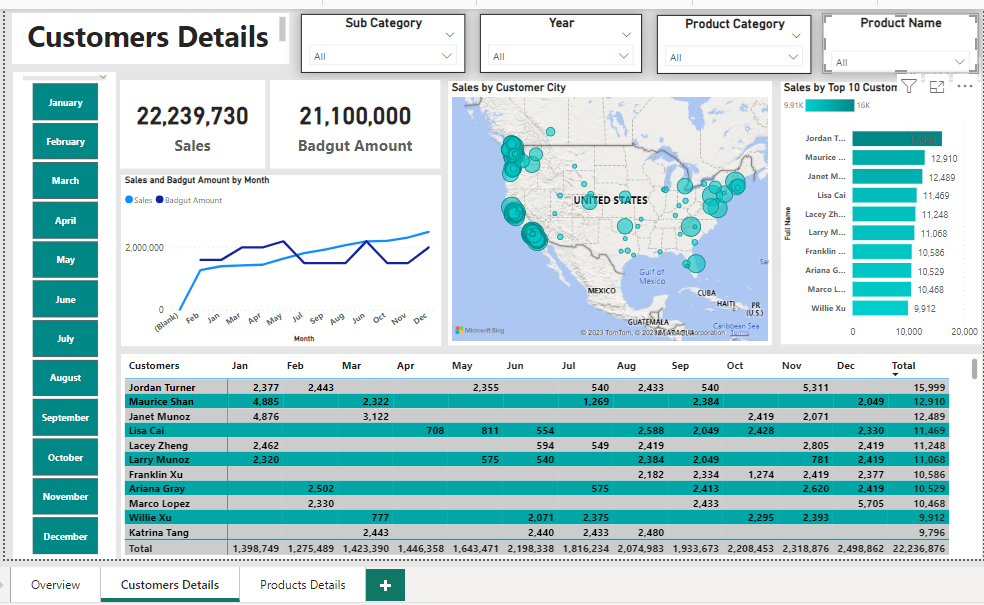

The page's visual inventory and layout, read from the dashboard file:
{"tool":"powerbi","page":{"name":"Customers Details","canvas":[1280,720],"ordinal":1},"visuals":[{"type":"textbox","box":[9.6,5.5,363.4,67.4],"z":0},{"type":"slicer","title":"Product Name","fields":{"Values":["DIM_Products.Product Name"]},"box":[1073.5,8.3,202.3,77.1],"z":1000},{"type":"slicer","title":"Year","fields":{"Values":["DIM_Calendar.Date.Variation.Date Hierarchy.Year"]},"box":[622.1,6.9,212,77.1],"z":2000},{"type":"slicer","title":"Product Category","fields":{"Values":["DIM_Products.Product Category"]},"box":[853.3,8.3,202.3,77.1],"z":3000},{"type":"slicer","title":"Sub Category","fields":{"Values":["DIM_Products.Sub Category"]},"box":[388.1,6.9,214.7,77.1],"z":4000},{"type":"slicer","fields":{"Values":["DIM_Calendar.Date.Variation.Date Hierarchy.Month"]},"box":[10.1,82.1,135.4,637.9],"z":5000},{"type":"barChart","title":"Sales by Top 10 Customers","fields":{"Y":["Key Measures.Sales"],"Category":["DIM_Customers.Full Name"]},"box":[1014.3,94.3,264.3,345.7],"z":6000},{"type":"card","fields":{"Values":["Key Measures.Sales"]},"box":[150,93.6,189.9,115.6],"z":7000},{"type":"card","fields":{"Values":["Key Measures.Badgut Amount"]},"box":[346.8,93.6,223,115.6],"z":8000},{"type":"lineChart","fields":{"Y":["Key Measures.Sales","Key Measures.Badgut Amount"],"Category":["DIM_Calendar.MonthShort"]},"box":[151.4,217.1,418.6,224.3],"z":9000},{"type":"map","fields":{"Category":["DIM_Customers.Customer City"],"Size":["Key Measures.Sales"]},"box":[580,94.3,424.3,345.7],"z":10000},{"type":"pivotTable","fields":{"Rows":["DIM_Customers.Full Name"],"Columns":["DIM_Calendar.MonthShort"],"Values":["Key Measures.Sales"]},"box":[151.9,451.6,1127.1,268.4],"z":11000}]}

Visuals, with their boxes on the page's 1280x720 design canvas (x1, y1, x2, y2). These are canvas units, not pixel positions in the 984x605 screenshot, which may show the page scaled, cropped or inside an application window:
textbox: x1=10, y1=6, x2=373, y2=73
"Product Name" slicer: x1=1074, y1=8, x2=1276, y2=85
"Year" slicer: x1=622, y1=7, x2=834, y2=84
"Product Category" slicer: x1=853, y1=8, x2=1056, y2=85
"Sub Category" slicer: x1=388, y1=7, x2=603, y2=84
slicer - DIM_Calendar.Date.Variation.Date Hierarchy.Month: x1=10, y1=82, x2=146, y2=720
"Sales by Top 10 Customers" barChart: x1=1014, y1=94, x2=1279, y2=440
card - Key Measures.Sales: x1=150, y1=94, x2=340, y2=209
card - Key Measures.Badgut Amount: x1=347, y1=94, x2=570, y2=209
lineChart - Key Measures.Sales x Key Measures.Badgut Amount: x1=151, y1=217, x2=570, y2=441
map - DIM_Customers.Customer City x Key Measures.Sales: x1=580, y1=94, x2=1004, y2=440
pivotTable - DIM_Customers.Full Name x DIM_Calendar.MonthShort: x1=152, y1=452, x2=1279, y2=720
